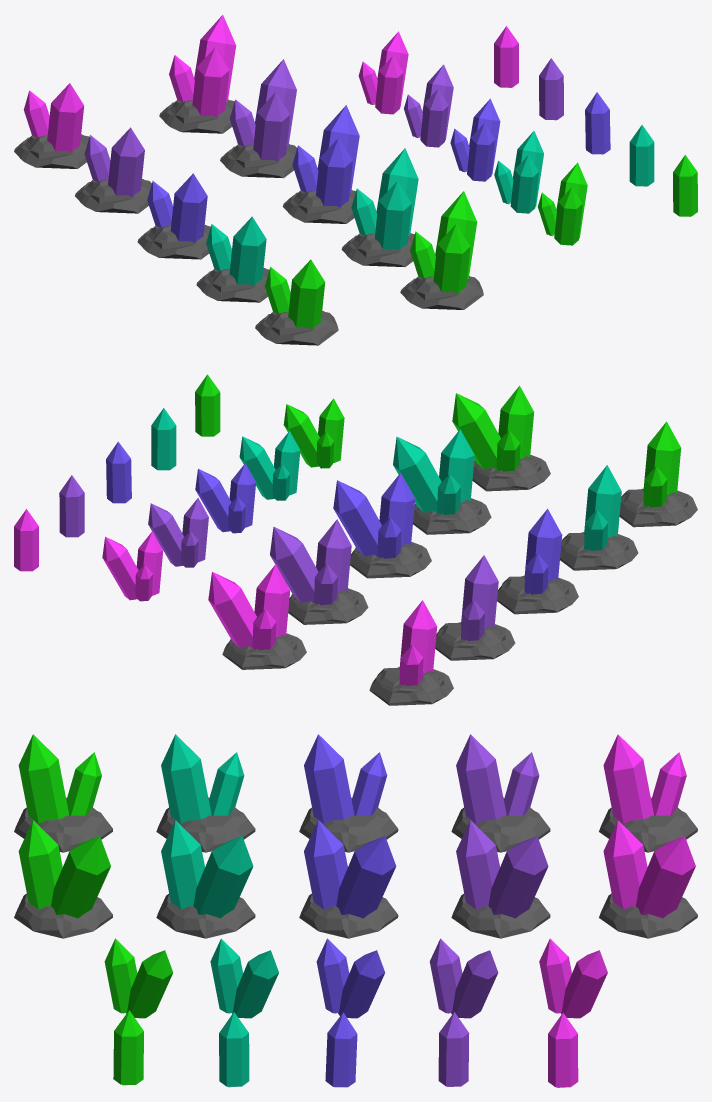
File: Crystals.glb
The picture shows the model from 3 angles, top to bottom: view 1: azimuth 30°, elevation 25°; view 2: azimuth 150°, elevation 25°; view 3: azimuth 270°, elevation 25°; orthographic projection. The views are drawn at different scales.
Parts seen in each view (by area): view 1: Cube.008, Cylinder.037, Cylinder.042, Cylinder.030, Cylinder.054, Cylinder.062, Cylinder.073, Cylinder.077, Cylinder.041, Cylinder.059, Cylinder.012, Cylinder.024 (+23 smaller); view 2: Cylinder.042, Cylinder.030, Cylinder.037, Cylinder.054, Cube.008, Cylinder.041, Cylinder.059, Cylinder.062, Cylinder.073, Cylinder.077, Cylinder.008, Cylinder.014 (+23 smaller); view 3: Cylinder.042, Cylinder.037, Cylinder.054, Cube.008, Cylinder.030, Cylinder.062, Cylinder.077, Cylinder.059, Cylinder.041, Cylinder.073, Cylinder.014, Cylinder.008 (+18 smaller).
Boxes of the visible parts, x1,y1,x2,y2 form: Cube.008: (255,259,338,345); Cylinder.037: (75,127,151,213); Cylinder.042: (14,83,89,168); Cylinder.030: (137,173,210,259); Cylinder.054: (196,216,269,302); Cylinder.062: (358,31,408,114); Cylinder.073: (538,162,587,245); Cylinder.077: (494,131,543,213); Cylinder.041: (450,98,500,181); Cylinder.059: (404,64,453,147); Cylinder.012: (192,47,229,116); Cylinder.024: (433,224,470,293); Cylinder.042: (369,600,453,705); Cylinder.030: (497,508,578,614); Cylinder.037: (435,555,515,660); Cylinder.054: (560,465,638,570); Cube.008: (619,421,697,527); Cylinder.041: (195,463,255,533); Cylinder.059: (148,498,208,567); Cylinder.062: (102,531,163,601); Cylinder.073: (283,398,344,468); Cylinder.077: (239,431,300,500); Cylinder.008: (270,527,318,603); Cylinder.014: (208,571,256,648); Cylinder.042: (599,734,697,852); Cylinder.037: (451,734,550,852); Cylinder.054: (156,734,255,852); Cube.008: (14,734,112,852); Cylinder.030: (299,734,398,852); Cylinder.062: (539,938,607,1018); Cylinder.077: (210,938,278,1018); Cylinder.059: (429,938,498,1018); Cylinder.041: (316,938,385,1018); Cylinder.073: (104,938,173,1018); Cylinder.014: (636,836,695,918); Cylinder.008: (488,836,548,918).
Size of the model in its own units: 6.4 by 1.21 by 6.81.
